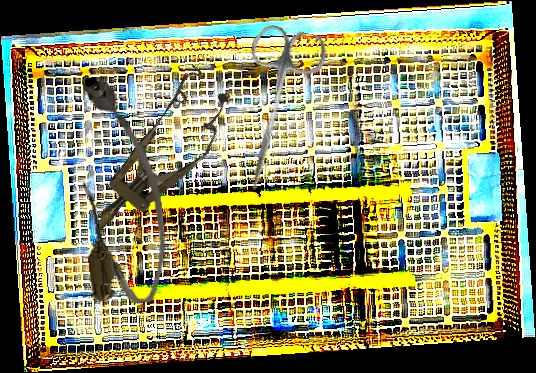Cannula: (69, 71, 172, 308)
Iris Scissors: (220, 21, 331, 200)
Speculum: (71, 62, 246, 252)
